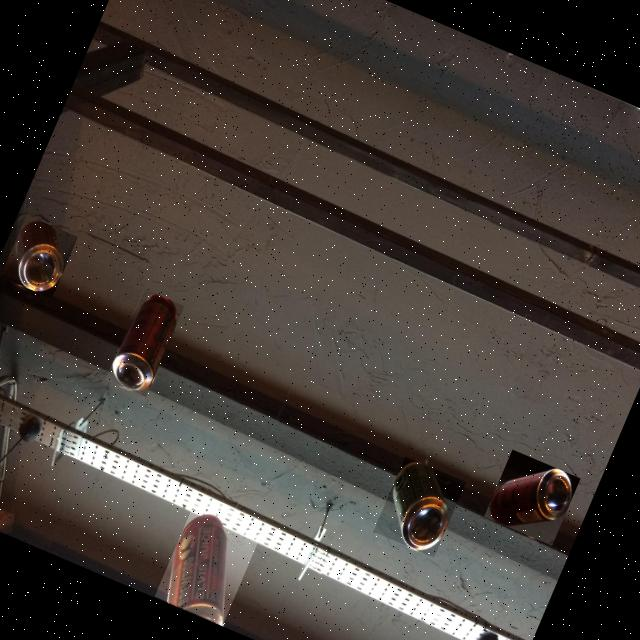Drink can: (167, 515, 227, 626), (112, 296, 177, 392), (392, 462, 448, 551), (490, 468, 571, 527), (15, 221, 63, 291)
